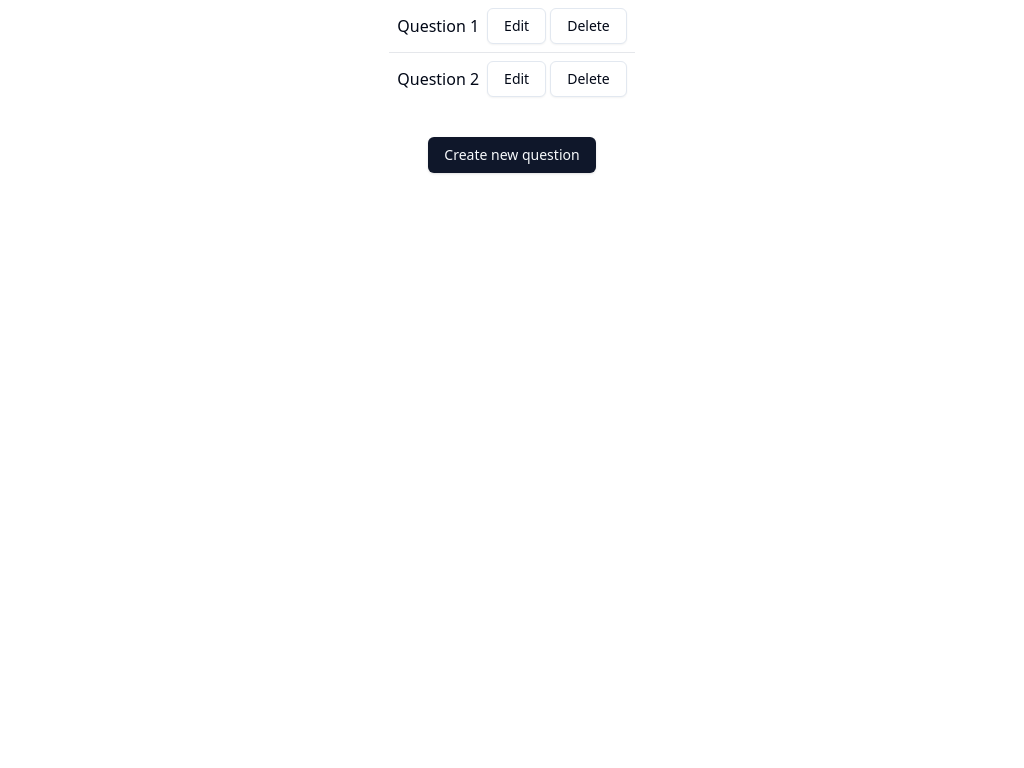
Test: Questions Component › opens delete question modal on delete button click
Step 1. Click the button "Delete" in the row of "Question 1" → (588,26), box top-left (550, 8), bottom-right (627, 44)
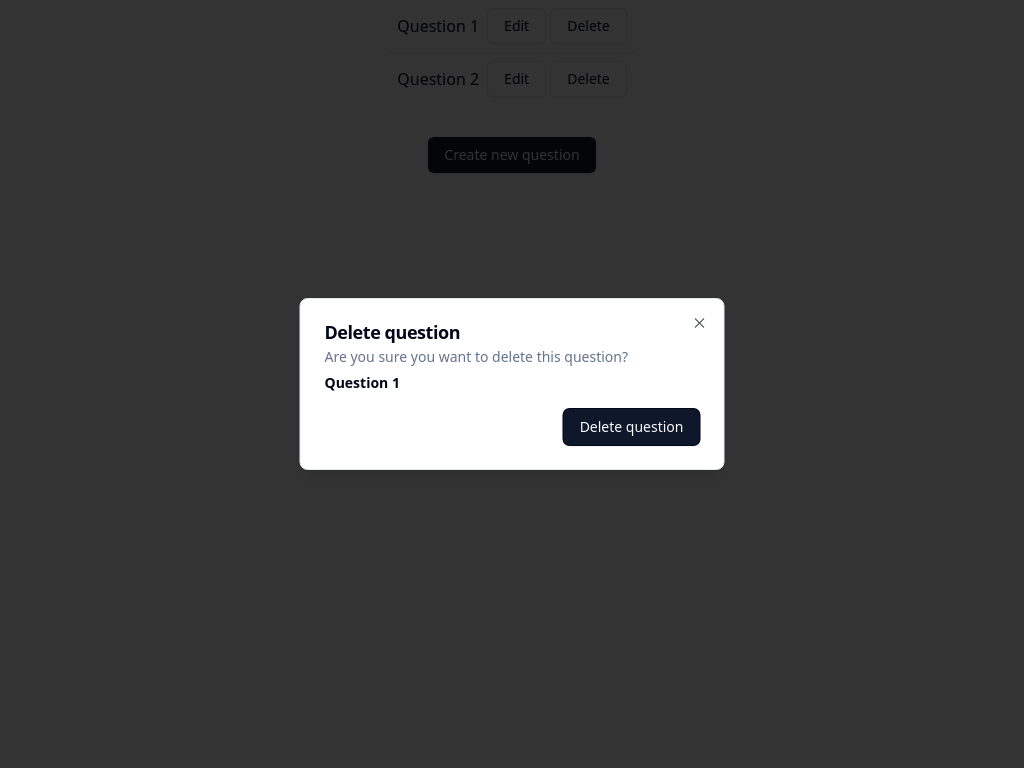
Expected: the heading "Delete question" is shown, top-left (324, 320), bottom-right (460, 344)
